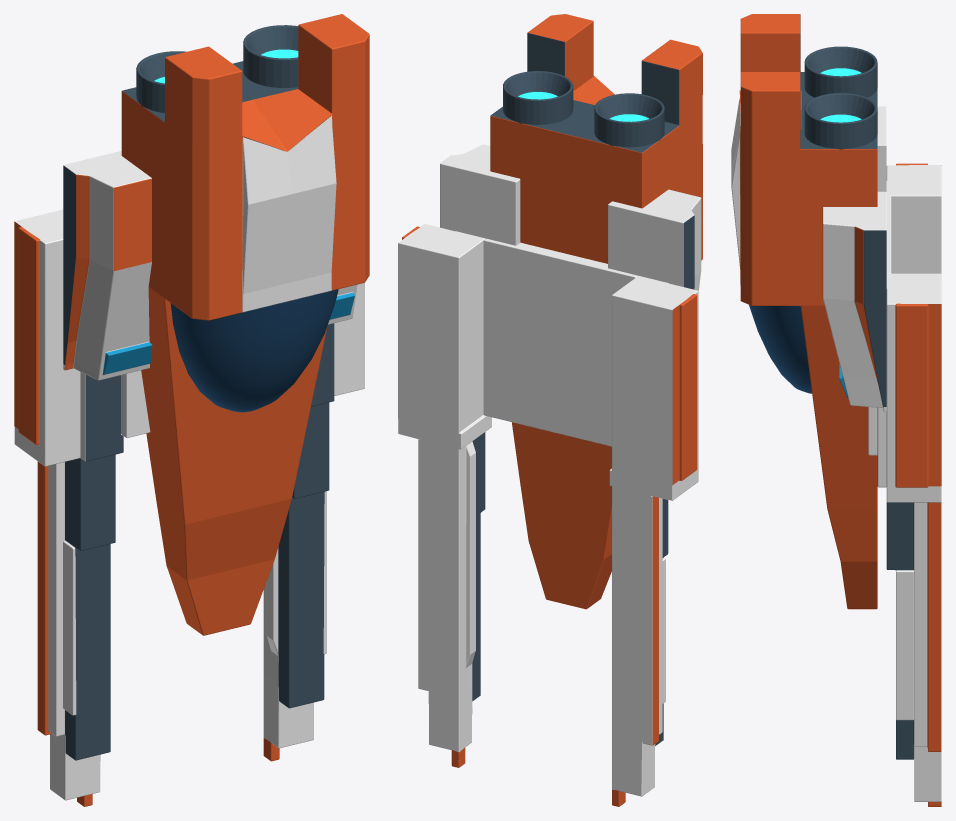
File: player.gltf
3 renders of one model, left to right at view 1: azimuth 30°, elevation 25°; view 2: azimuth 150°, elevation 25°; view 3: azimuth 270°, elevation 25°, orthographic. The views are drawn at different scales.
Visible parts, largest first — view 1: Body; view 2: Body; view 3: Body.
Boxes of the visible parts, box(x1,y1,x2,y2) form: Body: box(14, 14, 369, 806); Body: box(398, 14, 702, 806); Body: box(731, 14, 941, 806).
Size of the model in its own units: 3.68 by 8.6 by 2.3.
